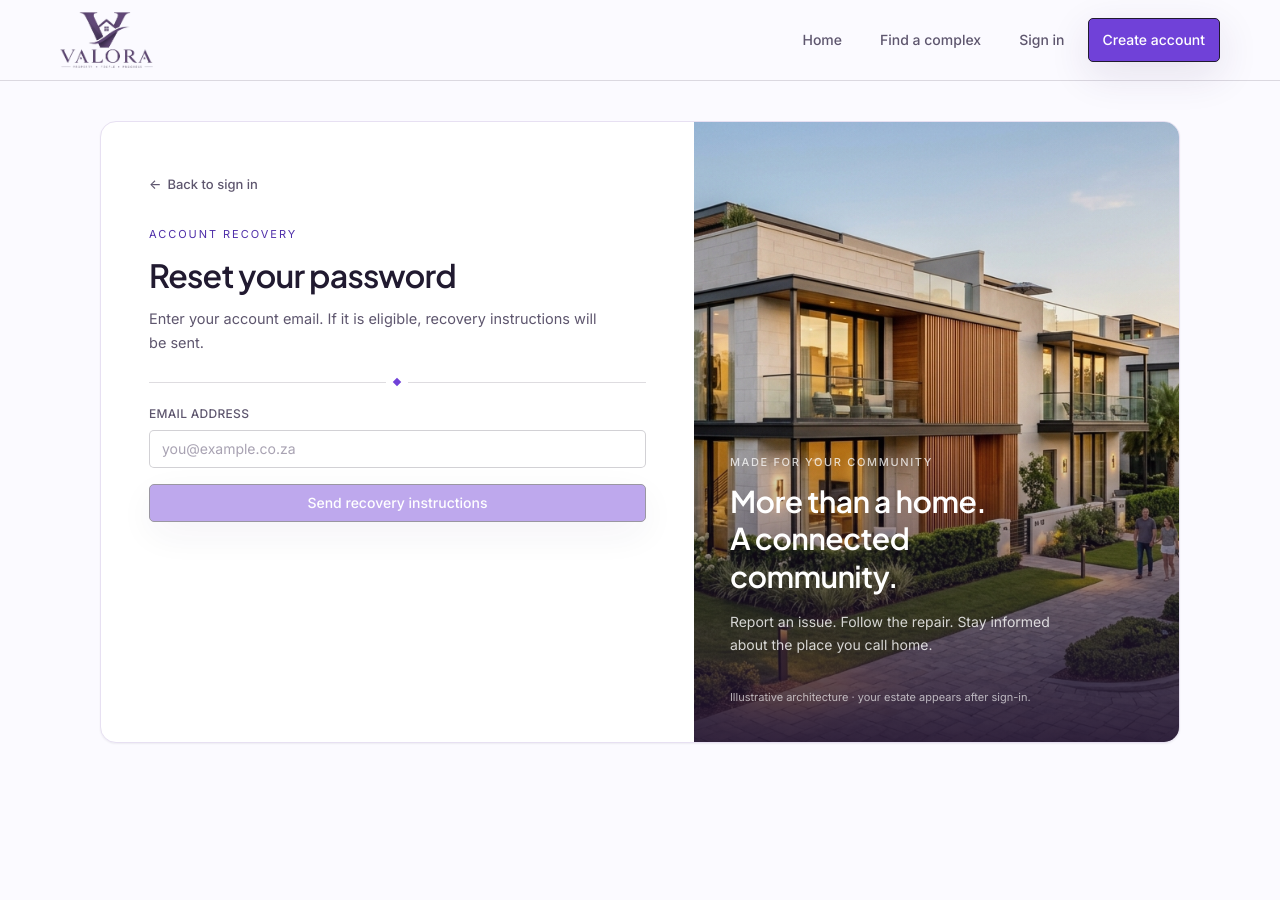
PasswordRecovery › accepts an email and gives the backend’s non-enumerating response
Type "resident@example.com" into the field labelled "Email address" at (397, 449), box x1=149 y1=430 x2=646 y2=468
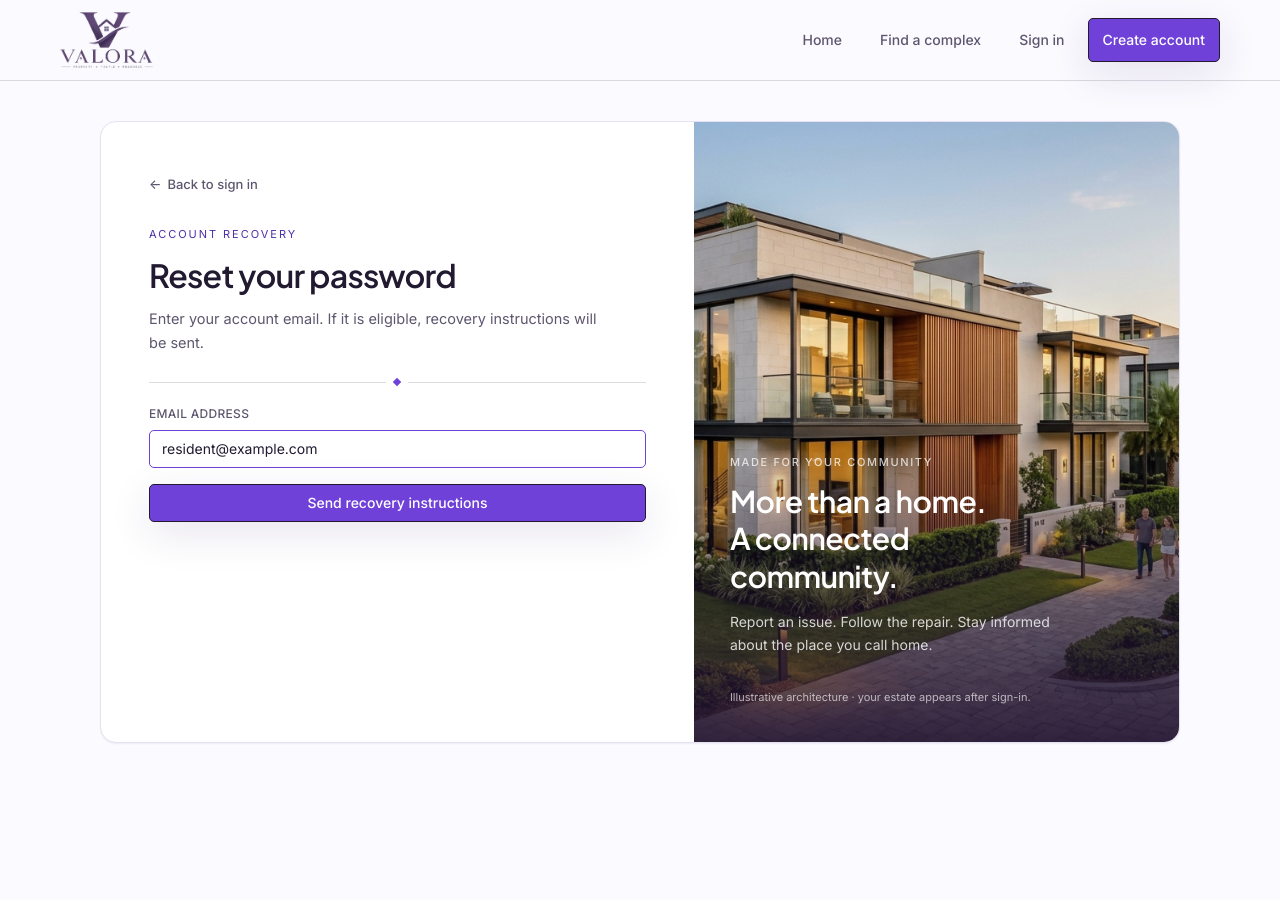
Click the button "Send recovery instructions" at (397, 503), box x1=149 y1=484 x2=646 y2=522
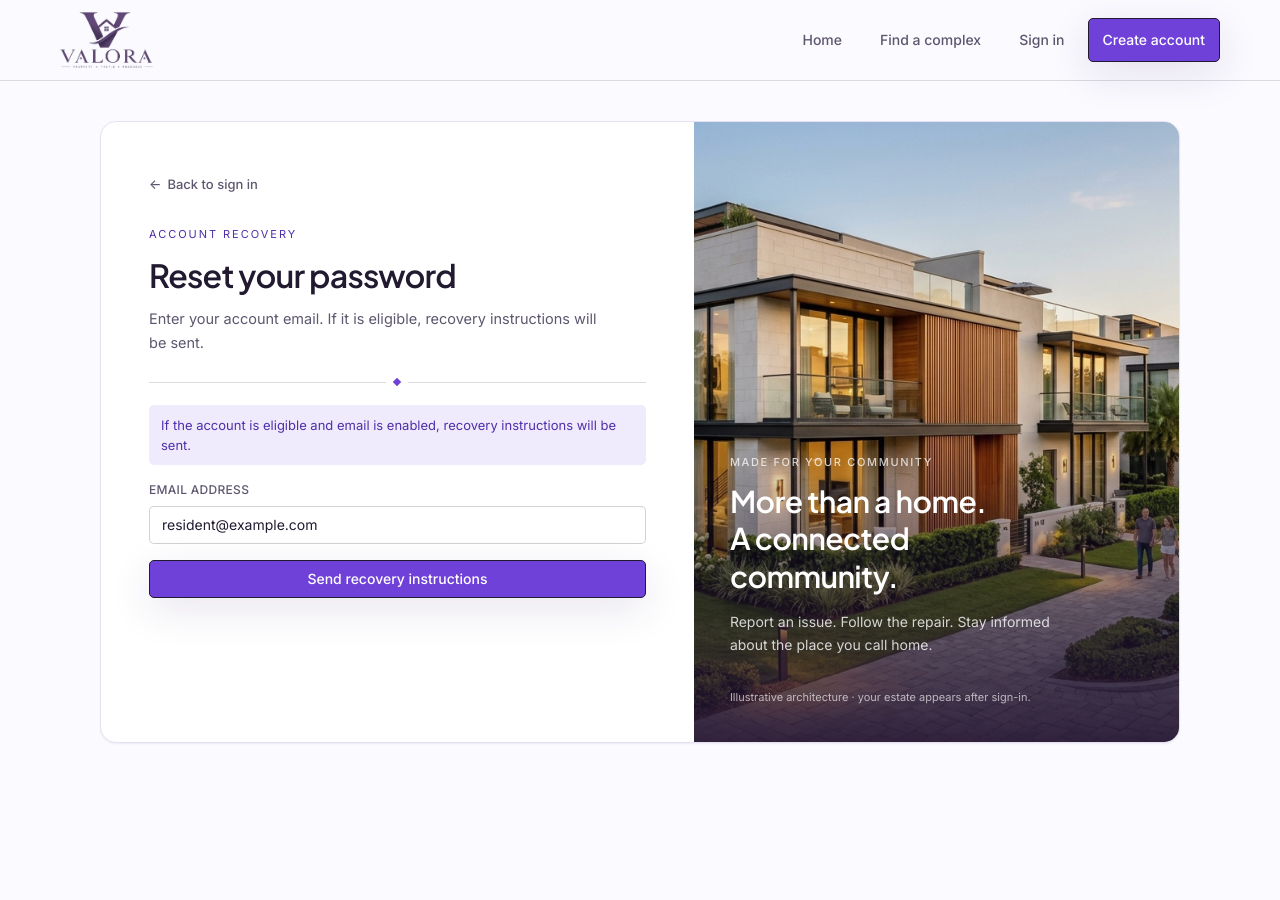
Expected: the text "If the account is eligible" is shown, x1=161 y1=417 x2=616 y2=453
